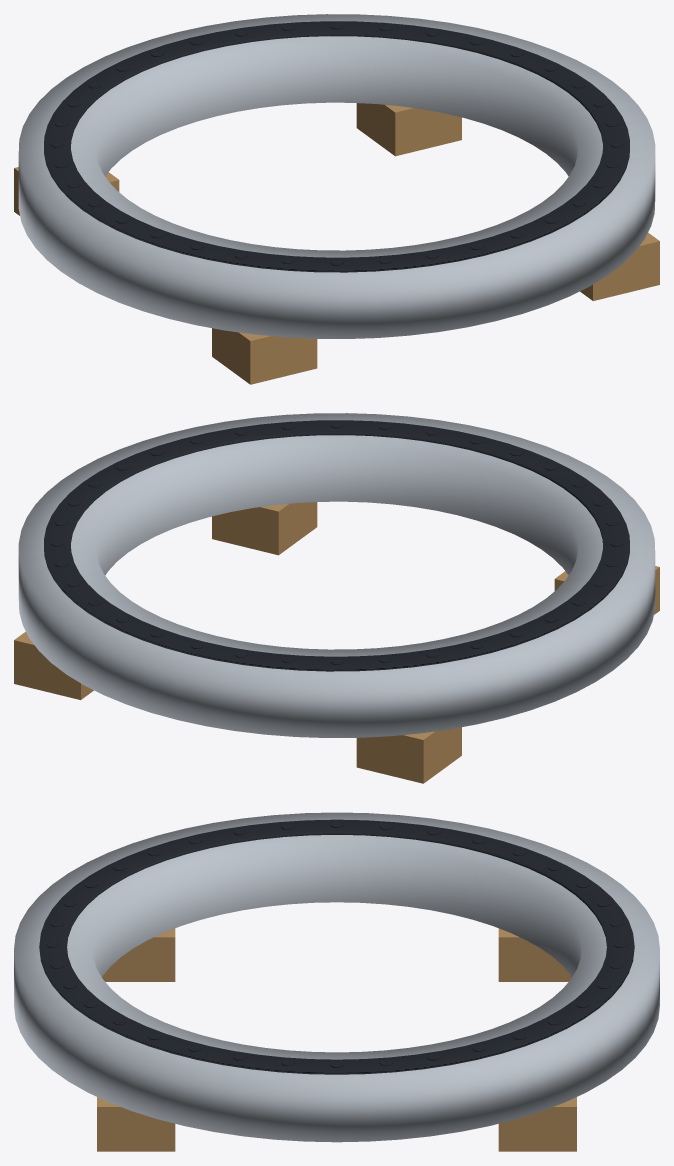
3 renders of one model, top to bottom at view 1: azimuth 30°, elevation 25°; view 2: azimuth 150°, elevation 25°; view 3: azimuth 270°, elevation 25°, orthographic.
Bounding box in the file's own units: 3.3 × 0.595 × 3.3.
